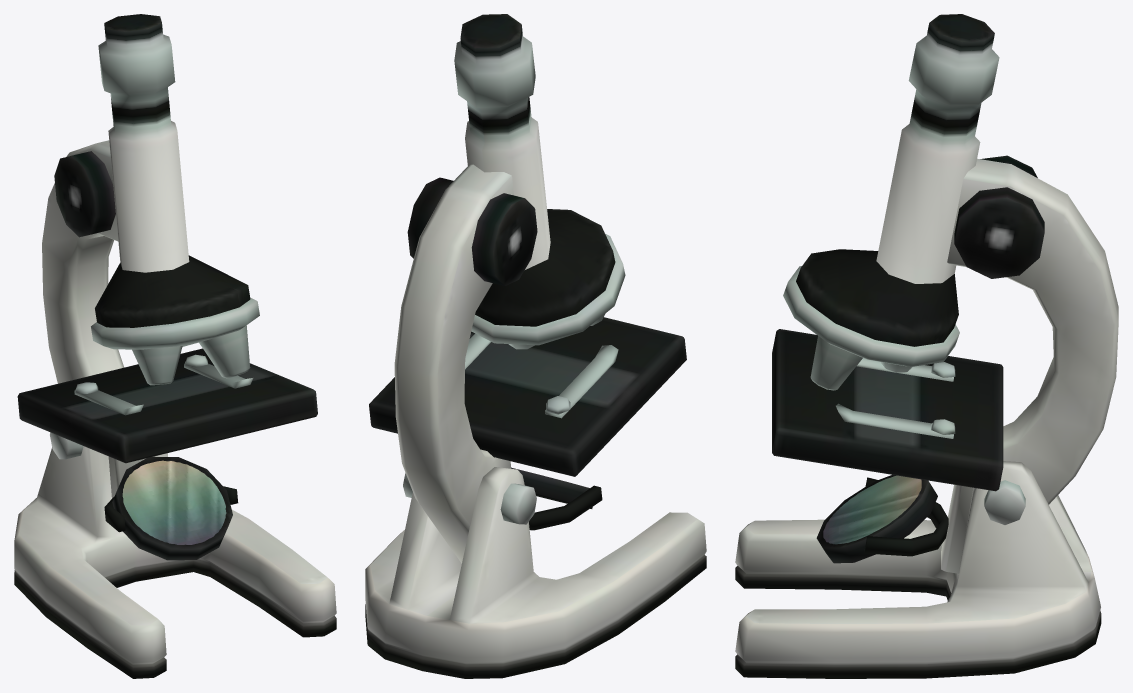
The picture shows the model from 3 angles, left to right: view 1: azimuth 30°, elevation 25°; view 2: azimuth 150°, elevation 25°; view 3: azimuth 270°, elevation 25°; orthographic projection. The views are drawn at different scales.
Size of the model in its own units: 3.1 by 7.96 by 4.6.
2 materials, 2 textured.
